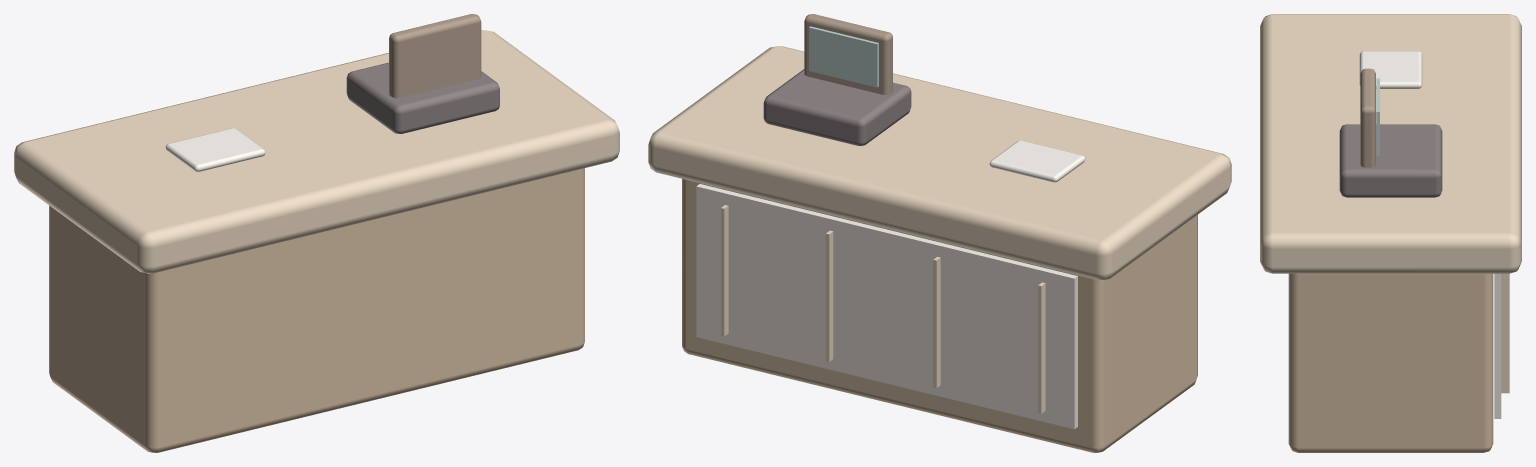
Rendered from counter-w1_1.glb.
3 views of the same model, side by side, from view 1: azimuth 30°, elevation 25°; view 2: azimuth 150°, elevation 25°; view 3: azimuth 270°, elevation 25° (orthographic). The views are drawn at different scales.
Parts seen in each view (by area): view 1: counter-w1_1.material1, counter-w1_1.material0, counter-w1_1.material4, counter-w1_1.material3, counter-w1_1.material6; view 2: counter-w1_1.material0, counter-w1_1.material2, counter-w1_1.material1, counter-w1_1.material3, counter-w1_1.material5, counter-w1_1.material4, counter-w1_1.material6; view 3: counter-w1_1.material0, counter-w1_1.material1, counter-w1_1.material3, counter-w1_1.material6, counter-w1_1.material4, counter-w1_1.material2, counter-w1_1.material5.
Part boxes in pixels (x1=…): counter-w1_1.material1: x1=49, y1=168, x2=584, y2=452; counter-w1_1.material0: x1=14, y1=30, x2=619, y2=273; counter-w1_1.material4: x1=389, y1=14, x2=481, y2=98; counter-w1_1.material3: x1=346, y1=62, x2=499, y2=133; counter-w1_1.material6: x1=165, y1=128, x2=265, y2=171; counter-w1_1.material0: x1=648, y1=46, x2=1231, y2=413; counter-w1_1.material2: x1=696, y1=184, x2=1077, y2=429; counter-w1_1.material1: x1=682, y1=179, x2=1197, y2=452; counter-w1_1.material3: x1=763, y1=69, x2=911, y2=145; counter-w1_1.material5: x1=809, y1=26, x2=878, y2=87; counter-w1_1.material4: x1=804, y1=14, x2=892, y2=94; counter-w1_1.material6: x1=989, y1=140, x2=1085, y2=182; counter-w1_1.material0: x1=1260, y1=14, x2=1521, y2=393; counter-w1_1.material1: x1=1288, y1=273, x2=1493, y2=452; counter-w1_1.material3: x1=1339, y1=124, x2=1442, y2=197; counter-w1_1.material6: x1=1359, y1=51, x2=1422, y2=88; counter-w1_1.material4: x1=1360, y1=68, x2=1375, y2=167; counter-w1_1.material2: x1=1494, y1=273, x2=1501, y2=418; counter-w1_1.material5: x1=1376, y1=78, x2=1379, y2=155.
Size of the model in its own units: 1.9 by 1.23 by 0.92.
